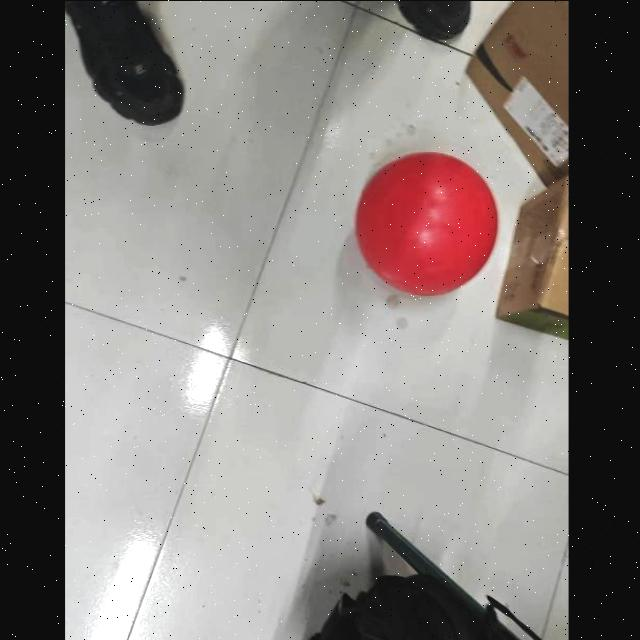R: (353, 146, 499, 298)
